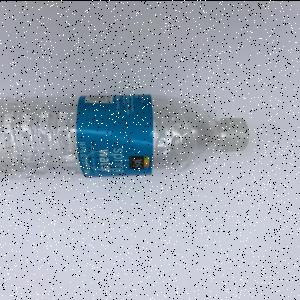Plastic-bottle: (2, 94, 250, 180)
